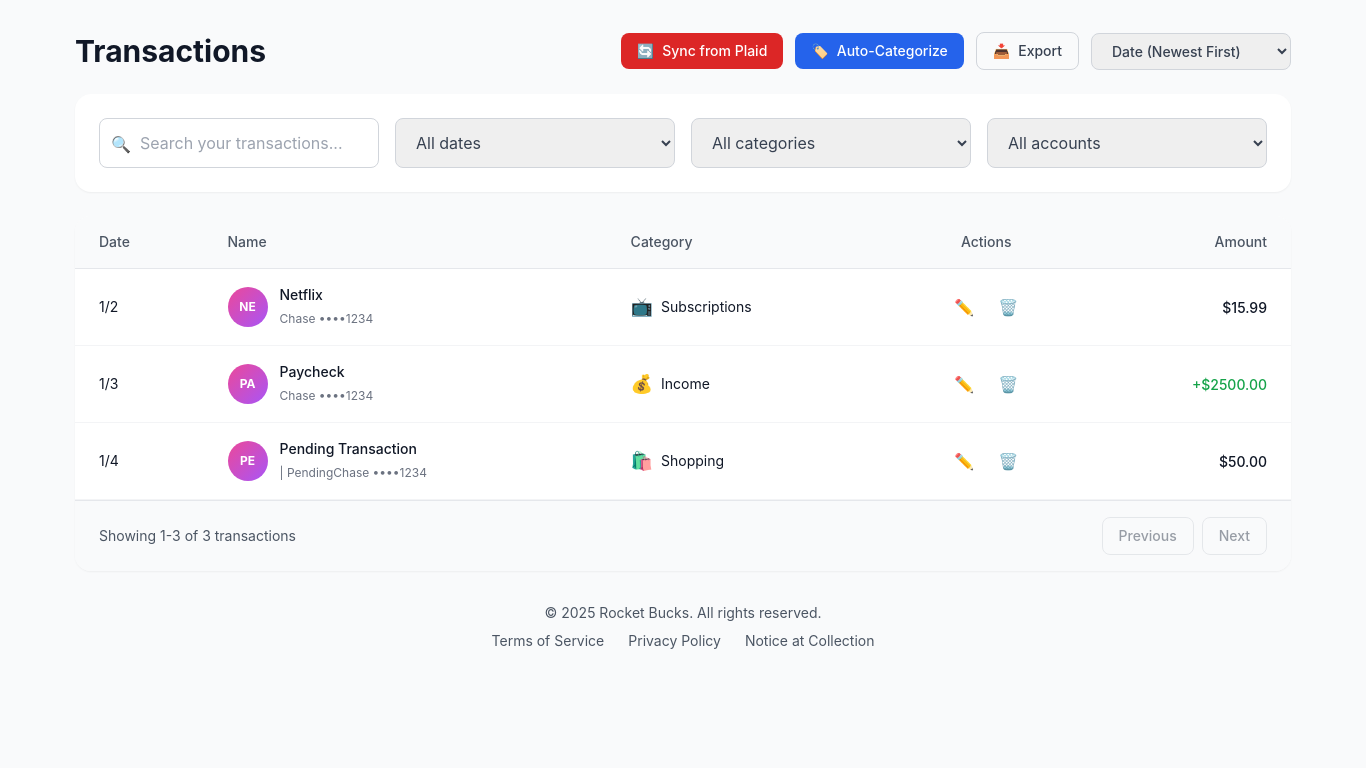
Test: Transactions page › handles sync rate limit error
Expected: the text "Netflix" is shown, x1=280 y1=286 x2=323 y2=303
Click the button "🔄 Sync from Plaid". click: (702, 51)
box: x1=621 y1=33 x2=783 y2=69
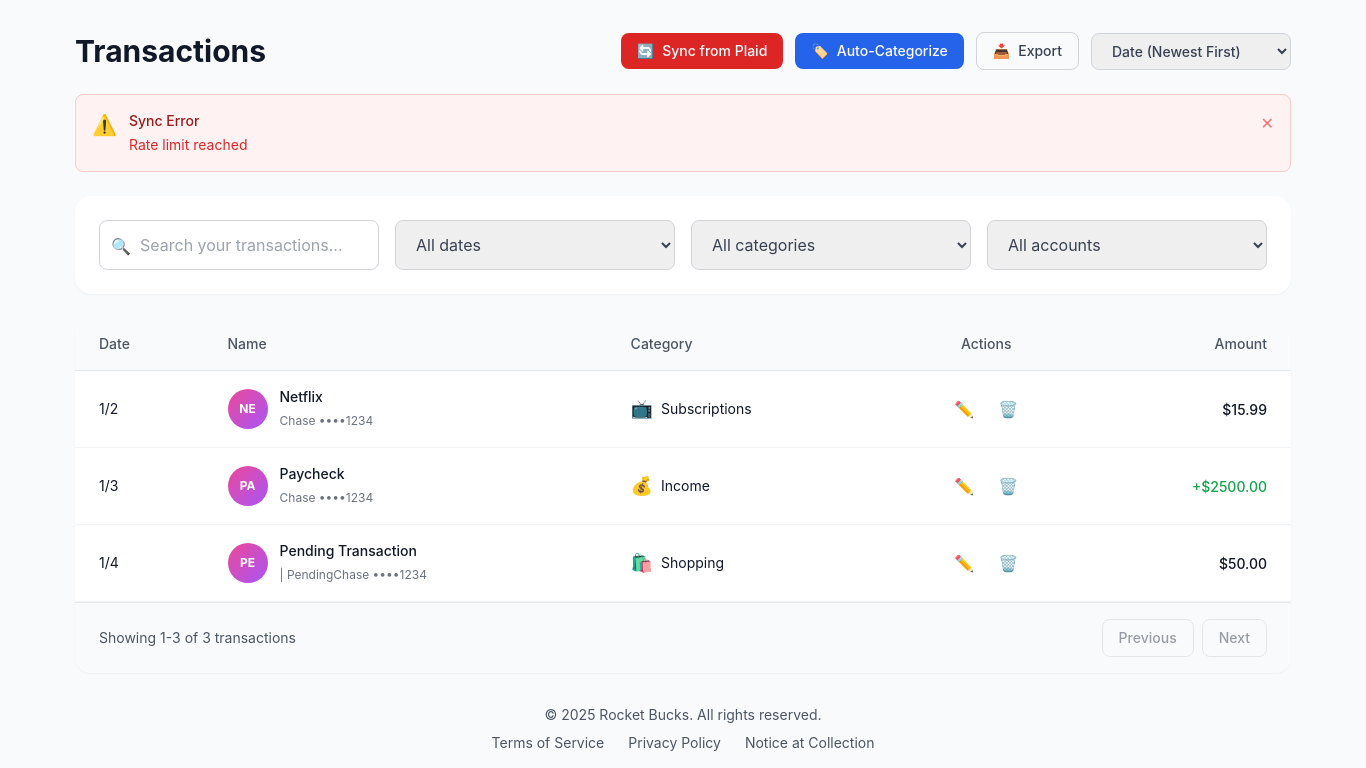
Expected: the text "Rate limit reached" is shown, x1=129 y1=136 x2=248 y2=153
